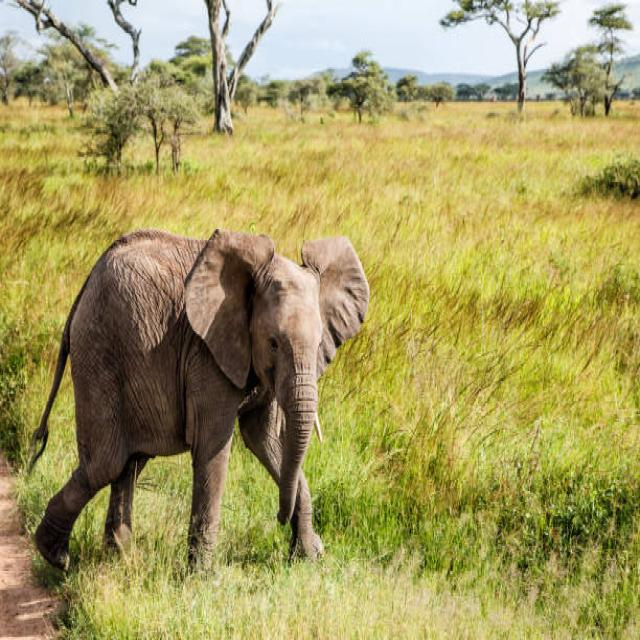Elephant: (37, 207, 399, 598)
